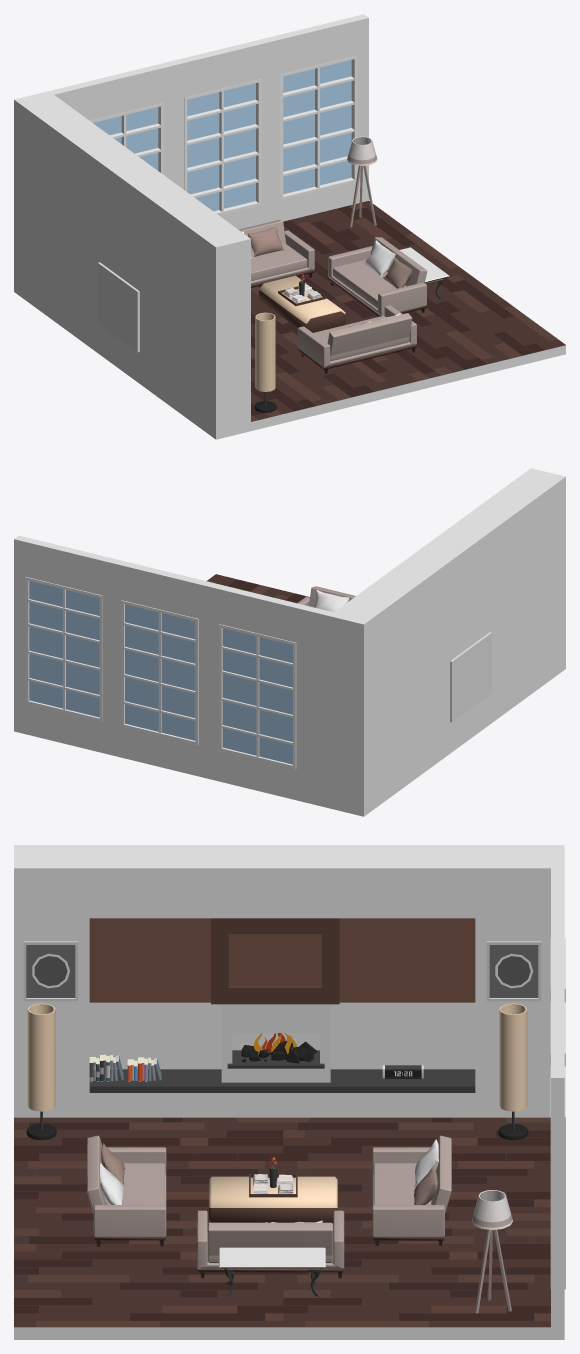
File: room_5.glb
The picture shows the model from 3 angles, top to bottom: view 1: azimuth 30°, elevation 25°; view 2: azimuth 150°, elevation 25°; view 3: azimuth 270°, elevation 25°; orthographic projection. The views are drawn at different scales.
Visible parts, largest first — view 1: Walls_006.151, floor_016.025, Walls_006.156, window_004.003, window_004.002, Walls_003.011, floor_016.023, floor_016.026, Walls_011.001, sofa_012.003, sofa_012.002, Walls_003.014 (+15 smaller); view 2: Walls_006.151, Walls_006.154, Walls_006.156, window_004.002, window_004.001, window_004.003, Walls_006.155, Walls_003.011, fireplace_001.001, Walls_006.157, Walls_006.158, Walls_006.059 (+2 smaller); view 3: Walls_003.011, Walls_019.026, floor_016.023, floor_016.025, Walls_006.151, floor_016.024, floor_016.026, Walls_011.001, Walls_003.065, Walls_003.014, Walls_003.031, fireplace_001.001 (+22 smaller).
Boxes of the visible parts, x1,y1,x2,y2 form: Walls_006.151: (14, 97, 224, 439); floor_016.025: (336, 272, 565, 386); Walls_006.156: (84, 17, 355, 120); window_004.003: (280, 55, 357, 200); window_004.002: (184, 79, 261, 215); Walls_003.011: (28, 95, 250, 281); floor_016.023: (258, 201, 466, 304); floor_016.026: (251, 317, 394, 421); Walls_011.001: (224, 204, 565, 437); sofa_012.003: (297, 305, 416, 373); sofa_012.002: (328, 237, 427, 316); Walls_003.014: (224, 275, 250, 428); Walls_006.151: (355, 474, 565, 816); Walls_006.154: (294, 604, 359, 814); Walls_006.156: (27, 538, 298, 641); window_004.002: (121, 600, 198, 745); window_004.001: (219, 624, 296, 769); window_004.003: (25, 577, 102, 721); Walls_006.155: (27, 703, 293, 799); Walls_003.011: (334, 468, 556, 618); fireplace_001.001: (450, 632, 491, 722); Walls_006.157: (198, 621, 218, 749); Walls_006.158: (102, 597, 121, 725); Walls_006.059: (14, 535, 31, 734); Walls_003.011: (14, 851, 550, 918); Walls_019.026: (89, 918, 475, 1002); floor_016.023: (283, 1213, 550, 1326); floor_016.025: (14, 1213, 283, 1326); Walls_006.151: (14, 845, 564, 1069); floor_016.024: (283, 1117, 550, 1213); floor_016.026: (14, 1117, 283, 1213); Walls_011.001: (14, 1118, 550, 1339); Walls_003.065: (89, 1093, 475, 1117); Walls_003.014: (14, 918, 89, 1117); Walls_003.031: (475, 918, 550, 1117); fireplace_001.001: (221, 1004, 330, 1082).
Size of the model in its own units: 8.05 by 4.2 by 8.02.
Materials: 1 (1 with a texture image).
